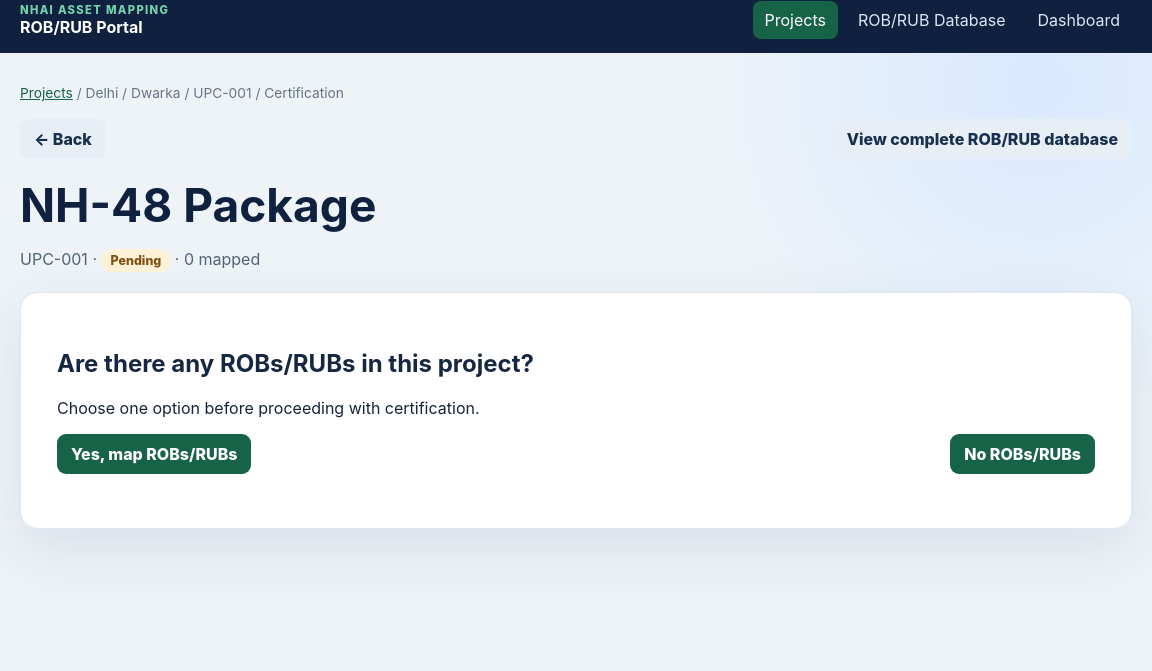
it: certification portal › shows complete mapping details immediately after saving without refetching
Click the button "Yes, map ROBs/RUBs".
click(154, 454)  # box left=57, top=434, right=252, bottom=474
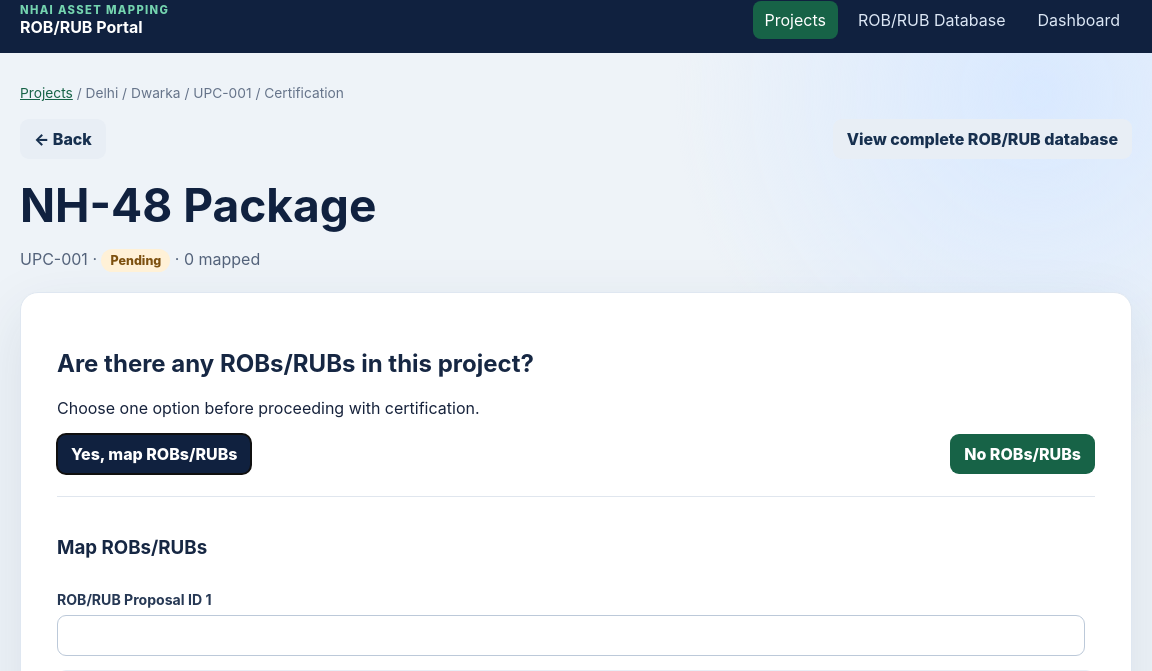
Type "ROB-001" into the field labelled "ROB/RUB Proposal ID 1".
click(571, 636); type("ROB-001")  # box left=57, top=615, right=1085, bottom=656
(page scrolled)
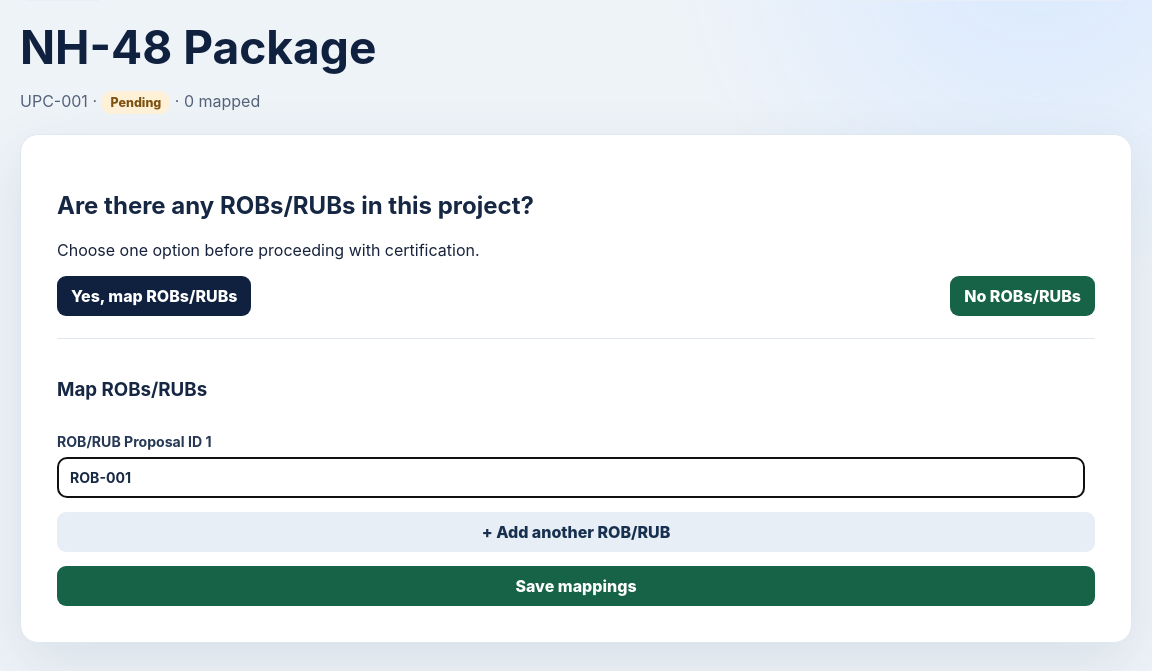
Click the button "Save mappings".
click(576, 586)  # box left=57, top=566, right=1095, bottom=606
(page scrolled)
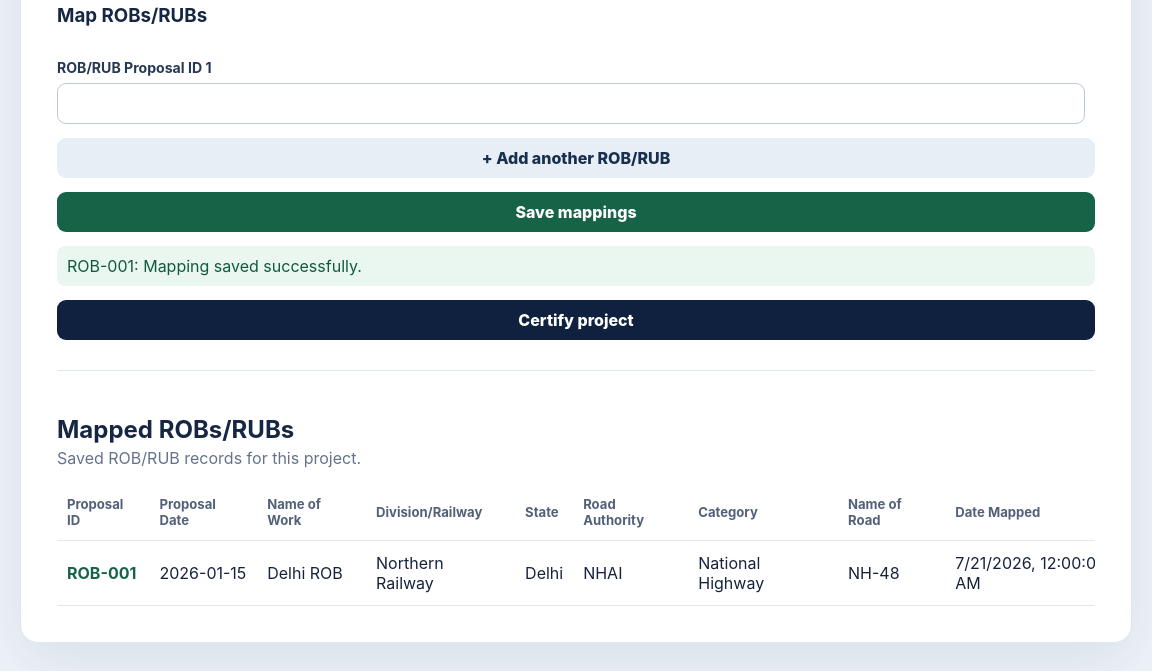
Expected: the heading "Mapped ROBs/RUBs" is shown, left=57, top=415, right=294, bottom=444
Expected: the text "ROB-001" is shown, left=67, top=563, right=136, bottom=583
Expected: the text "Delhi ROB" is shown, left=257, top=541, right=366, bottom=606
